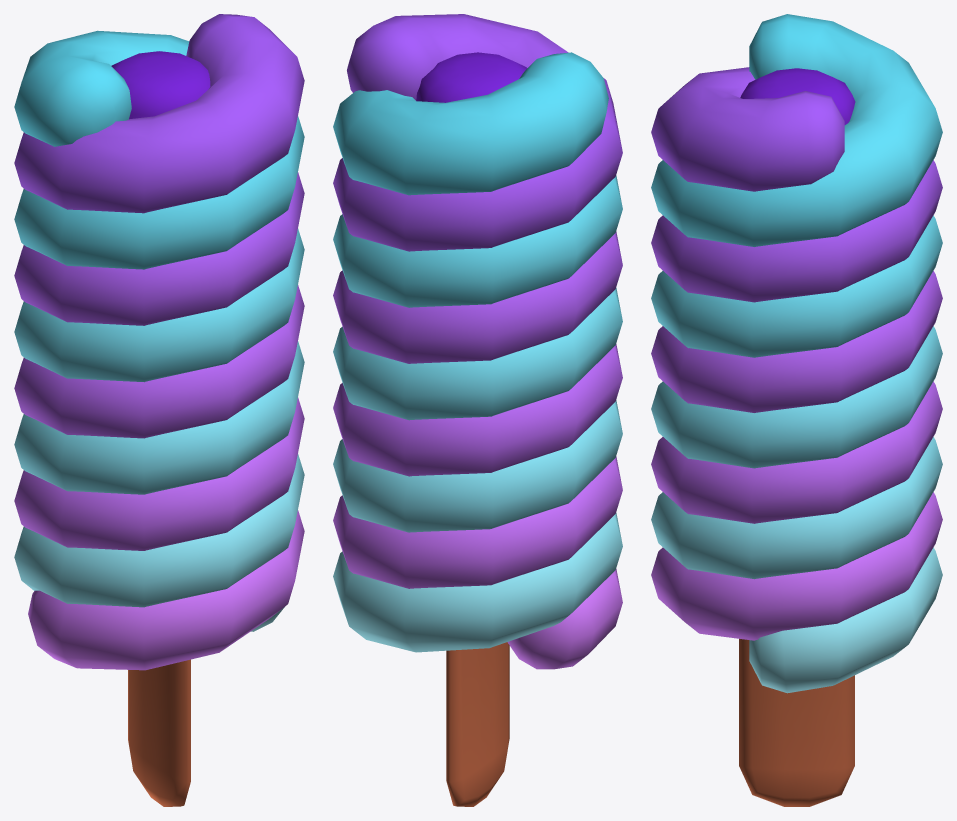
File: Ice_Cream_V1_01.fbx
3 renders of one model, left to right at view 1: azimuth 30°, elevation 25°; view 2: azimuth 150°, elevation 25°; view 3: azimuth 270°, elevation 25°, orthographic.
Parts seen in each view (by area): view 1: Ice_Cream_V1_01; view 2: Ice_Cream_V1_01; view 3: Ice_Cream_V1_01.
Part boxes in pixels (x1=…): Ice_Cream_V1_01: x1=14, y1=14, x2=304, y2=806; Ice_Cream_V1_01: x1=333, y1=14, x2=622, y2=806; Ice_Cream_V1_01: x1=651, y1=14, x2=942, y2=806.
Size of the model in its own units: 15.4 by 45.71 by 16.13.
